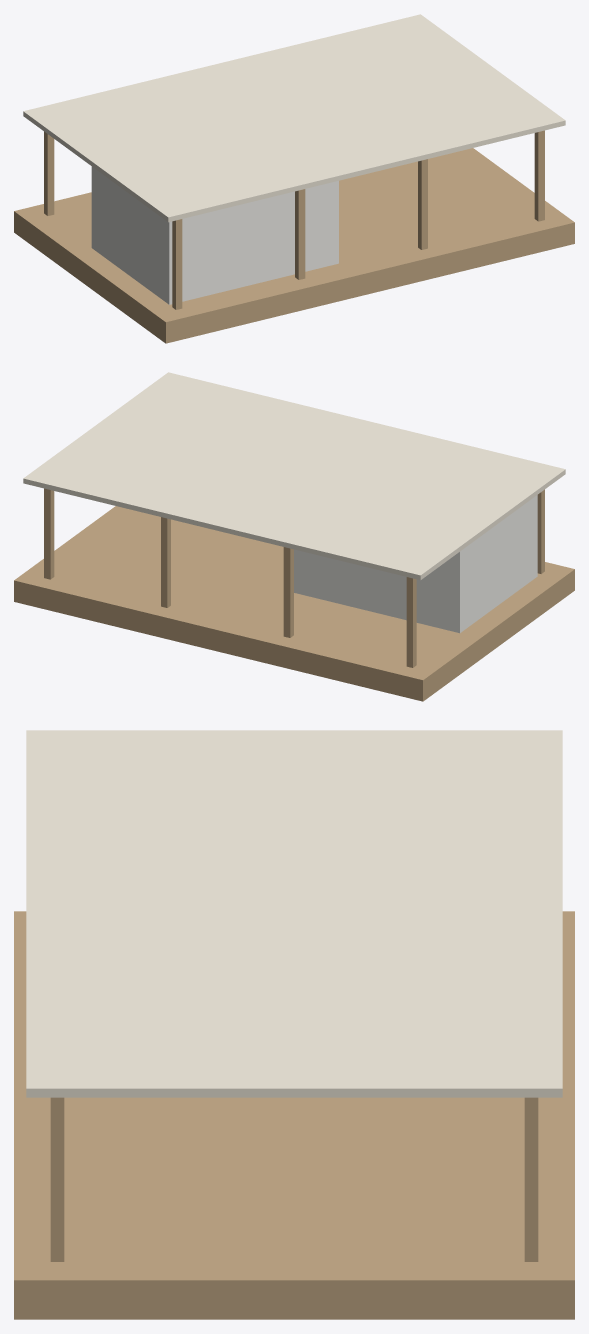
The model's file is Beach_Parador.fbx.
3 views of the same model, one above another, from view 1: azimuth 30°, elevation 25°; view 2: azimuth 150°, elevation 25°; view 3: azimuth 270°, elevation 25° (orthographic). The views are drawn at different scales.
Parts seen in each view (by area): view 1: Cube.010, Cube, Cube.001, Cube.008, Cube.004, Cube.002, Cube.006, Cube.003; view 2: Cube.010, Cube, Cube.001, Cube.009, Cube.005, Cube.003, Cube.007, Cube.002; view 3: Cube.010, Cube, Cube.008, Cube.009.
Part boxes in pixels (box(x1,y1,x2,y2)): Cube.010: box(23, 14, 565, 222); Cube: box(14, 148, 574, 343); Cube.001: box(91, 166, 338, 304); Cube.008: box(534, 130, 544, 221); Cube.004: box(295, 189, 305, 279); Cube.002: box(172, 219, 182, 309); Cube.006: box(418, 159, 427, 249); Cube.003: box(44, 131, 54, 215); Cube.010: box(23, 372, 565, 580); Cube: box(14, 506, 574, 701); Cube.001: box(294, 495, 537, 633); Cube.009: box(44, 488, 54, 579); Cube.005: box(283, 547, 293, 637); Cube.003: box(406, 577, 416, 667); Cube.007: box(161, 517, 170, 607); Cube.002: box(537, 489, 544, 573); Cube.010: box(26, 730, 562, 1097); Cube: box(14, 911, 574, 1319); Cube.008: box(50, 1097, 64, 1261); Cube.009: box(524, 1097, 538, 1261).
Bounding box in the file's own units: 14 × 4 × 9.
